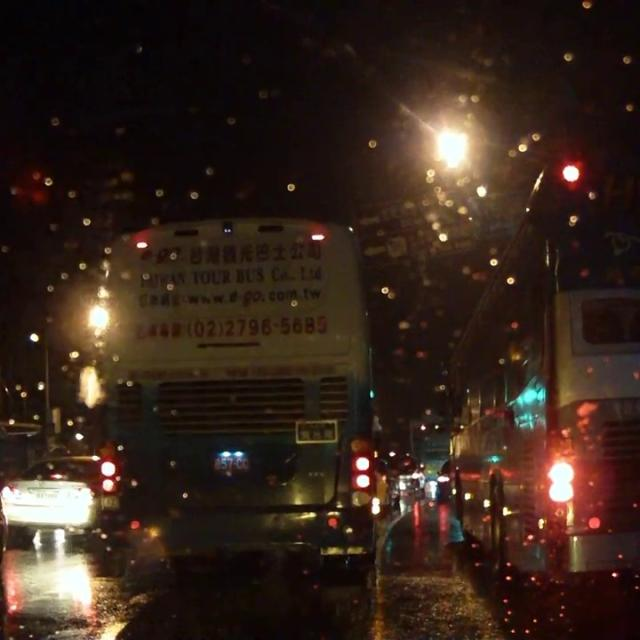Car: (0, 454, 106, 534), (370, 451, 400, 507), (388, 455, 422, 495), (433, 455, 457, 500)
